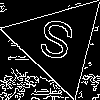S: (33, 18, 77, 70)
